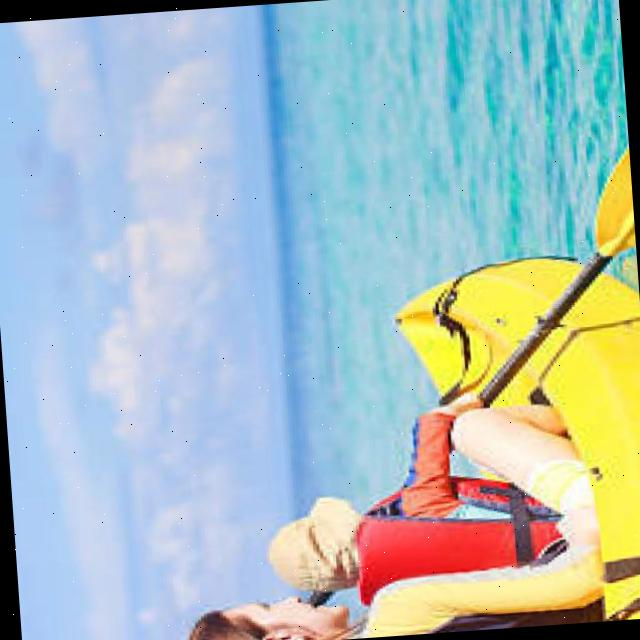kayak: (501, 274, 640, 558), (399, 260, 578, 391), (599, 151, 635, 256), (607, 576, 640, 607)
